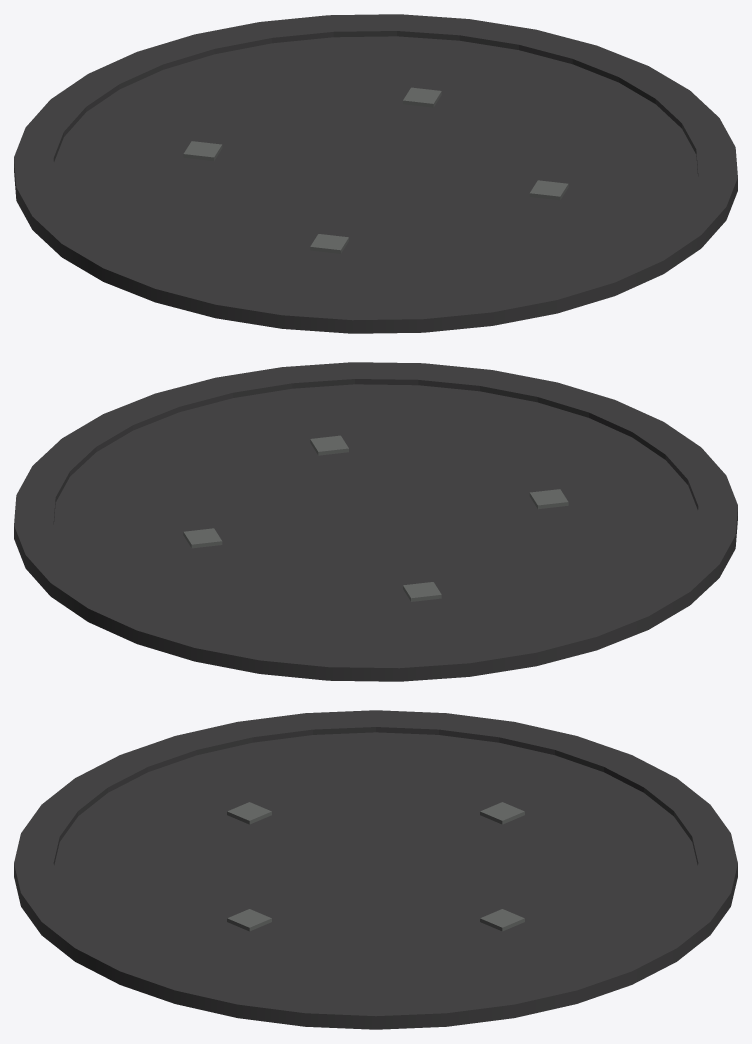
File: SM_sewerCover.gltf
3 views of the same model, one above another, from view 1: azimuth 30°, elevation 25°; view 2: azimuth 150°, elevation 25°; view 3: azimuth 270°, elevation 25° (orthographic).
Visible parts, largest first — view 1: SM_sewerCover; view 2: SM_sewerCover; view 3: SM_sewerCover.
Boxes of the visible parts, bbox=[...] form: SM_sewerCover: bbox=[14, 14, 737, 333]; SM_sewerCover: bbox=[14, 362, 737, 681]; SM_sewerCover: bbox=[14, 710, 737, 1029].
Bounding box in the file's own units: 1.2 × 0.0248 × 1.2.
Materials: 1 (1 with a texture image).
